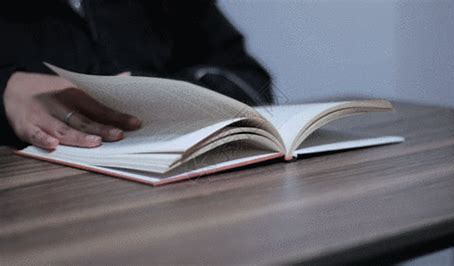book: (15, 67, 406, 190)
